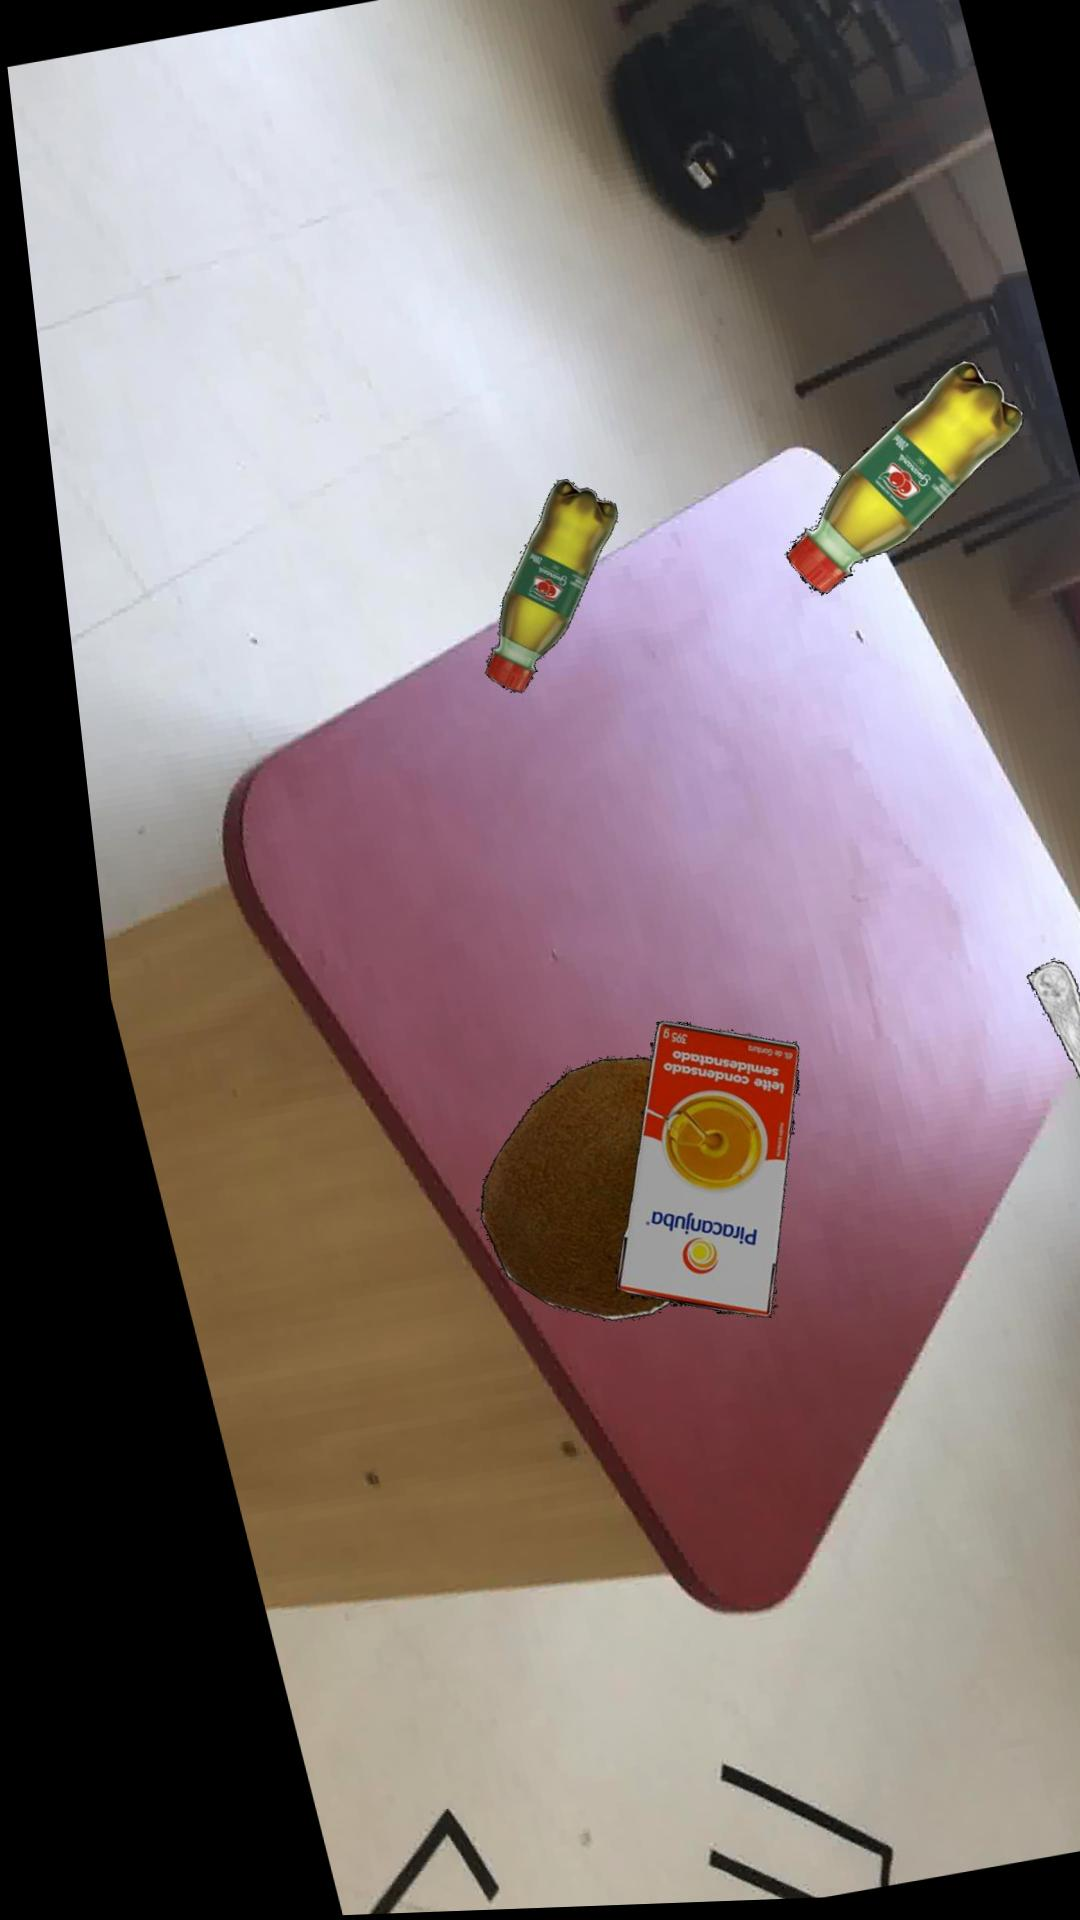guarana: (771, 369, 1011, 603), (468, 484, 604, 698)
kiwi: (450, 1063, 641, 1325)
spoon: (1002, 969, 1080, 1141)
